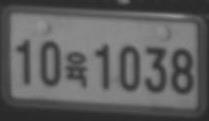0: (38, 40, 62, 85), (118, 46, 141, 91)
1: (14, 39, 36, 84), (94, 44, 115, 88)
3: (145, 47, 166, 92)
8: (170, 48, 194, 94)
육: (65, 51, 88, 87)
